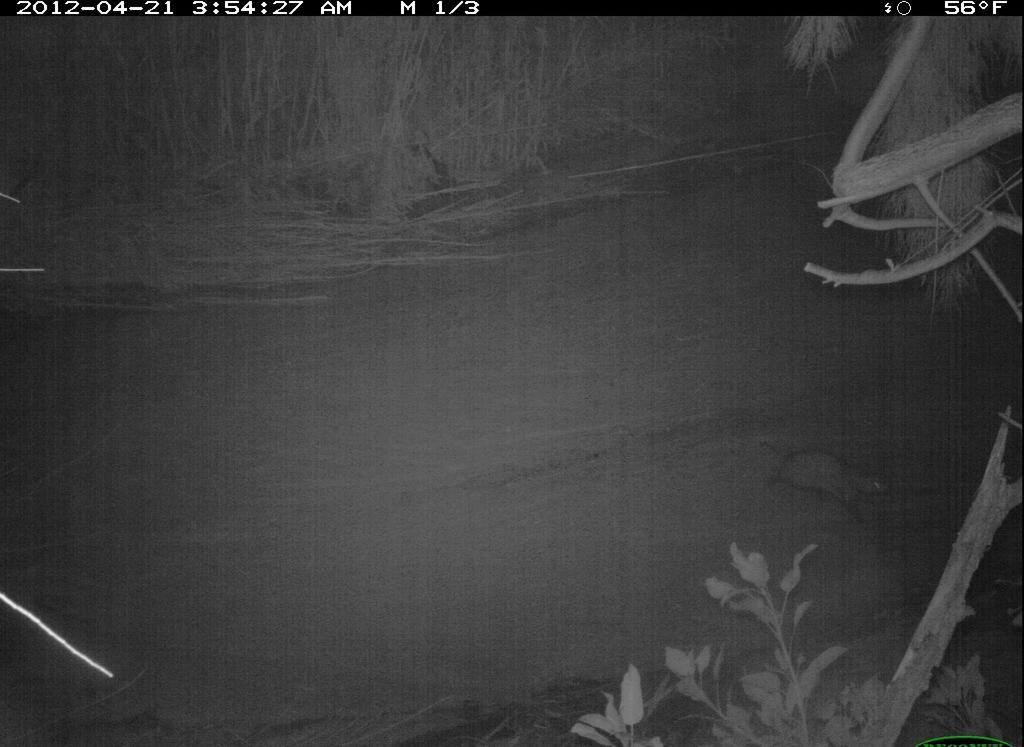opossum: (751, 431, 907, 532)
